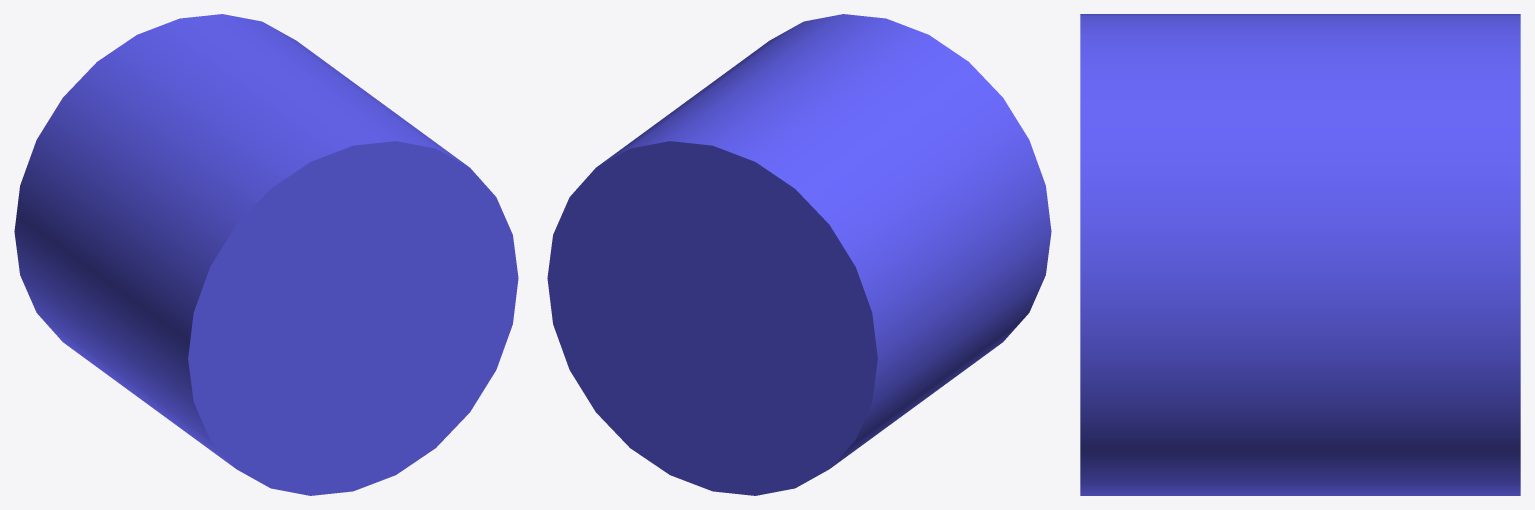
Rendered from original-9.obj.
3 views of the same model, side by side, from view 1: azimuth 30°, elevation 25°; view 2: azimuth 150°, elevation 25°; view 3: azimuth 270°, elevation 25° (orthographic). The views are drawn at different scales.
Visible parts, largest first — view 1: Group7/mesh18/mesh18-geometry#mesh18-geometry; view 2: Group7/mesh18/mesh18-geometry#mesh18-geometry; view 3: Group7/mesh18/mesh18-geometry#mesh18-geometry.
Part boxes in pixels (<box>): Group7/mesh18/mesh18-geometry#mesh18-geometry: <box>14,14,518,495</box>; Group7/mesh18/mesh18-geometry#mesh18-geometry: <box>547,14,1051,495</box>; Group7/mesh18/mesh18-geometry#mesh18-geometry: <box>1080,14,1520,495</box>.
Size of the model in its own units: 0.0195 by 0.0195 by 0.0178.
